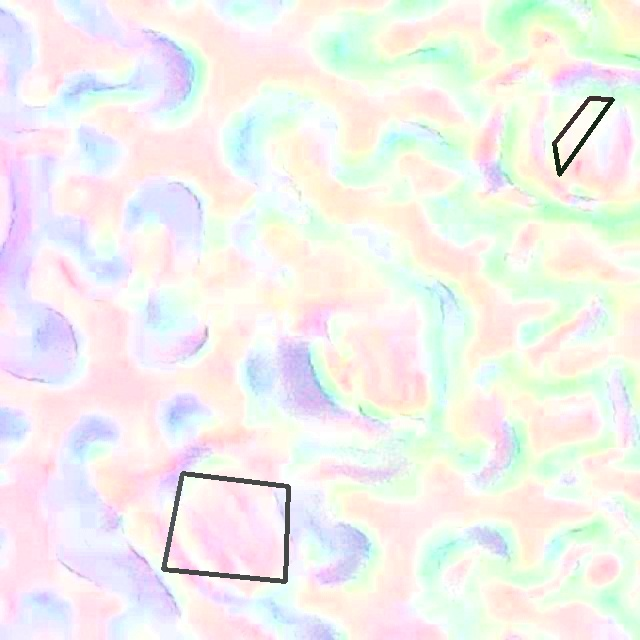close: (552, 96, 614, 176)
open: (161, 471, 290, 583)
